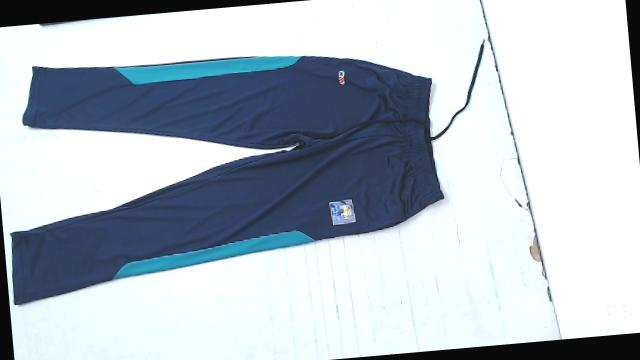new-garment: (12, 56, 449, 304)
